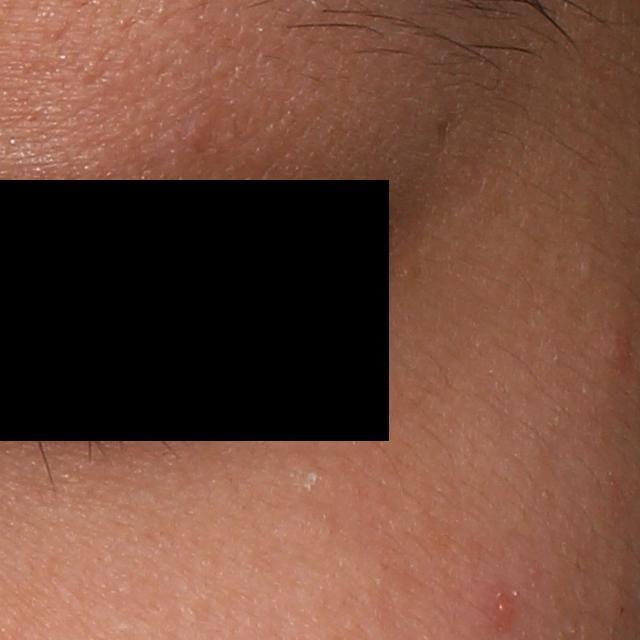papule: (600, 327, 636, 369)
